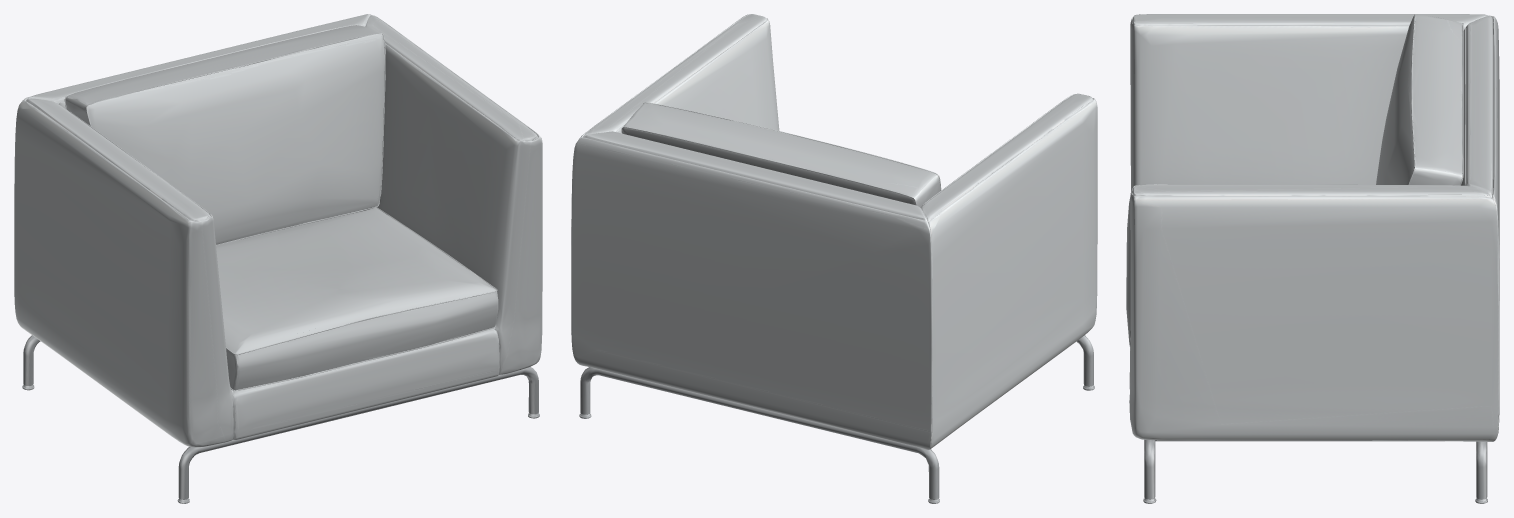
The model's file is raw_model.obj.
The picture shows the model from 3 angles, left to right: view 1: azimuth 30°, elevation 25°; view 2: azimuth 150°, elevation 25°; view 3: azimuth 270°, elevation 25°; orthographic projection. The views are drawn at different scales.
Parts seen in each view (by area): view 1: solid_002, solid_001; view 2: solid_002, solid_001; view 3: solid_002, solid_001.
Boxes of the visible parts, <box> form: solid_002: <box>14,14,542,447</box>; solid_001: <box>22,335,539,503</box>; solid_002: <box>571,14,1097,449</box>; solid_001: <box>579,335,1094,503</box>; solid_002: <box>1126,14,1499,441</box>; solid_001: <box>1143,440,1487,503</box>.
Bounding box in the file's own units: 1.05 × 0.8378 × 0.879.
1 material, 1 textured.
